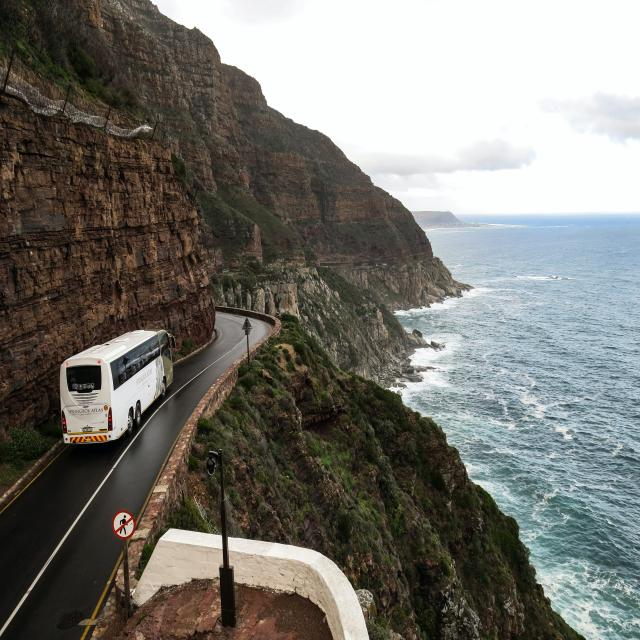Lamppost: (200, 437, 251, 634), (233, 309, 258, 377)
bus: (56, 332, 197, 458)
